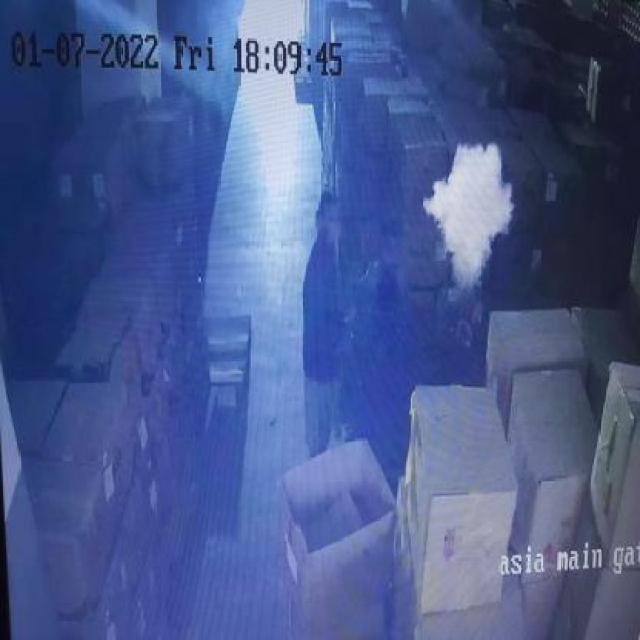fire: (422, 136, 515, 292)
